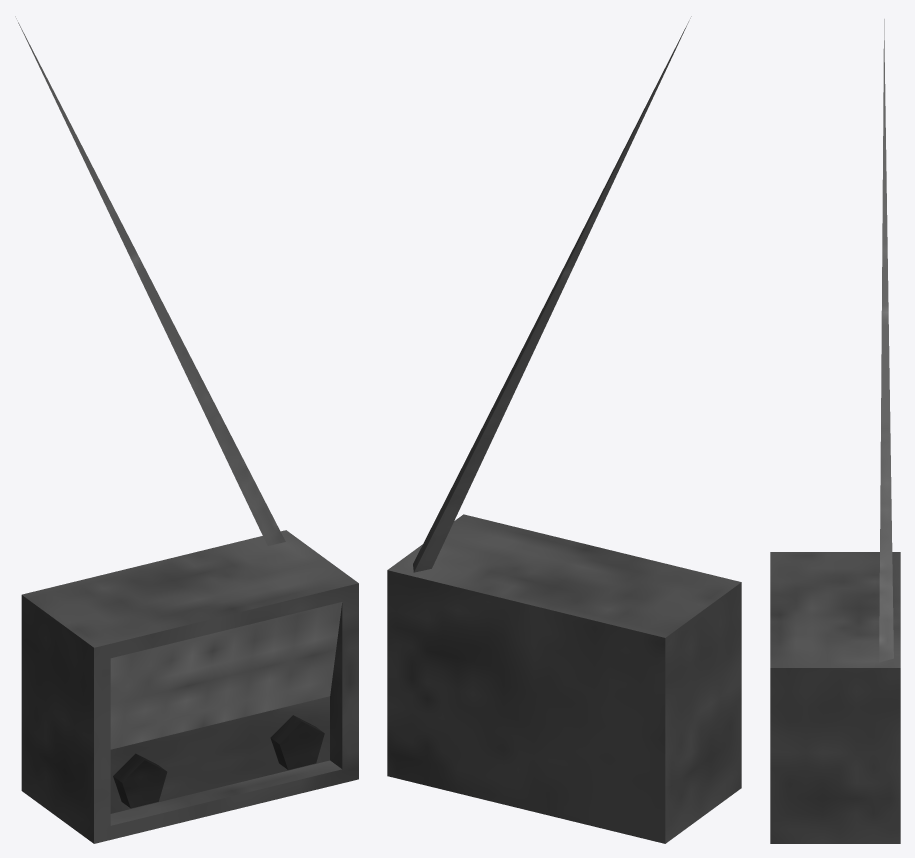
The model's file is radio.fbx.
3 views of the same model, side by side, from view 1: azimuth 30°, elevation 25°; view 2: azimuth 150°, elevation 25°; view 3: azimuth 270°, elevation 25° (orthographic). The views are drawn at different scales.
Visible parts, largest first — view 1: radio; view 2: radio; view 3: radio.
Part boxes in pixels (box(x1,y1,x2,y2)): radio: box(15, 16, 358, 843); radio: box(387, 16, 741, 843); radio: box(770, 19, 900, 843).
Bounding box in the file's own units: 213 × 569 × 95.01.
